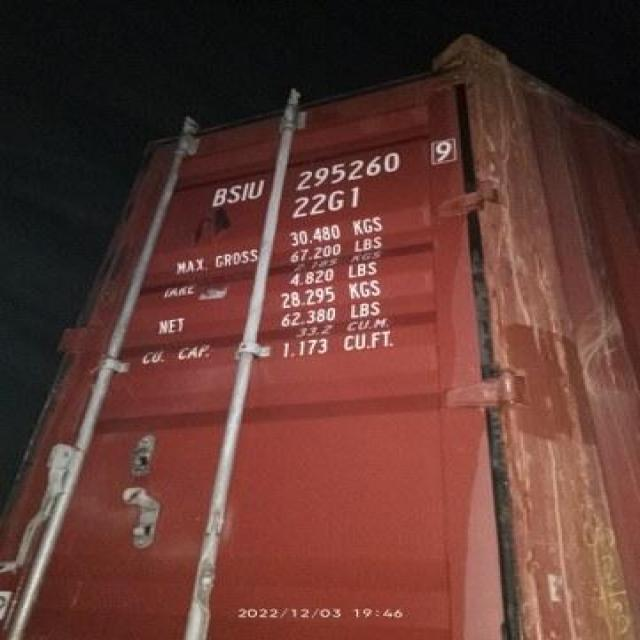container_number_h: (162, 111, 490, 228)
